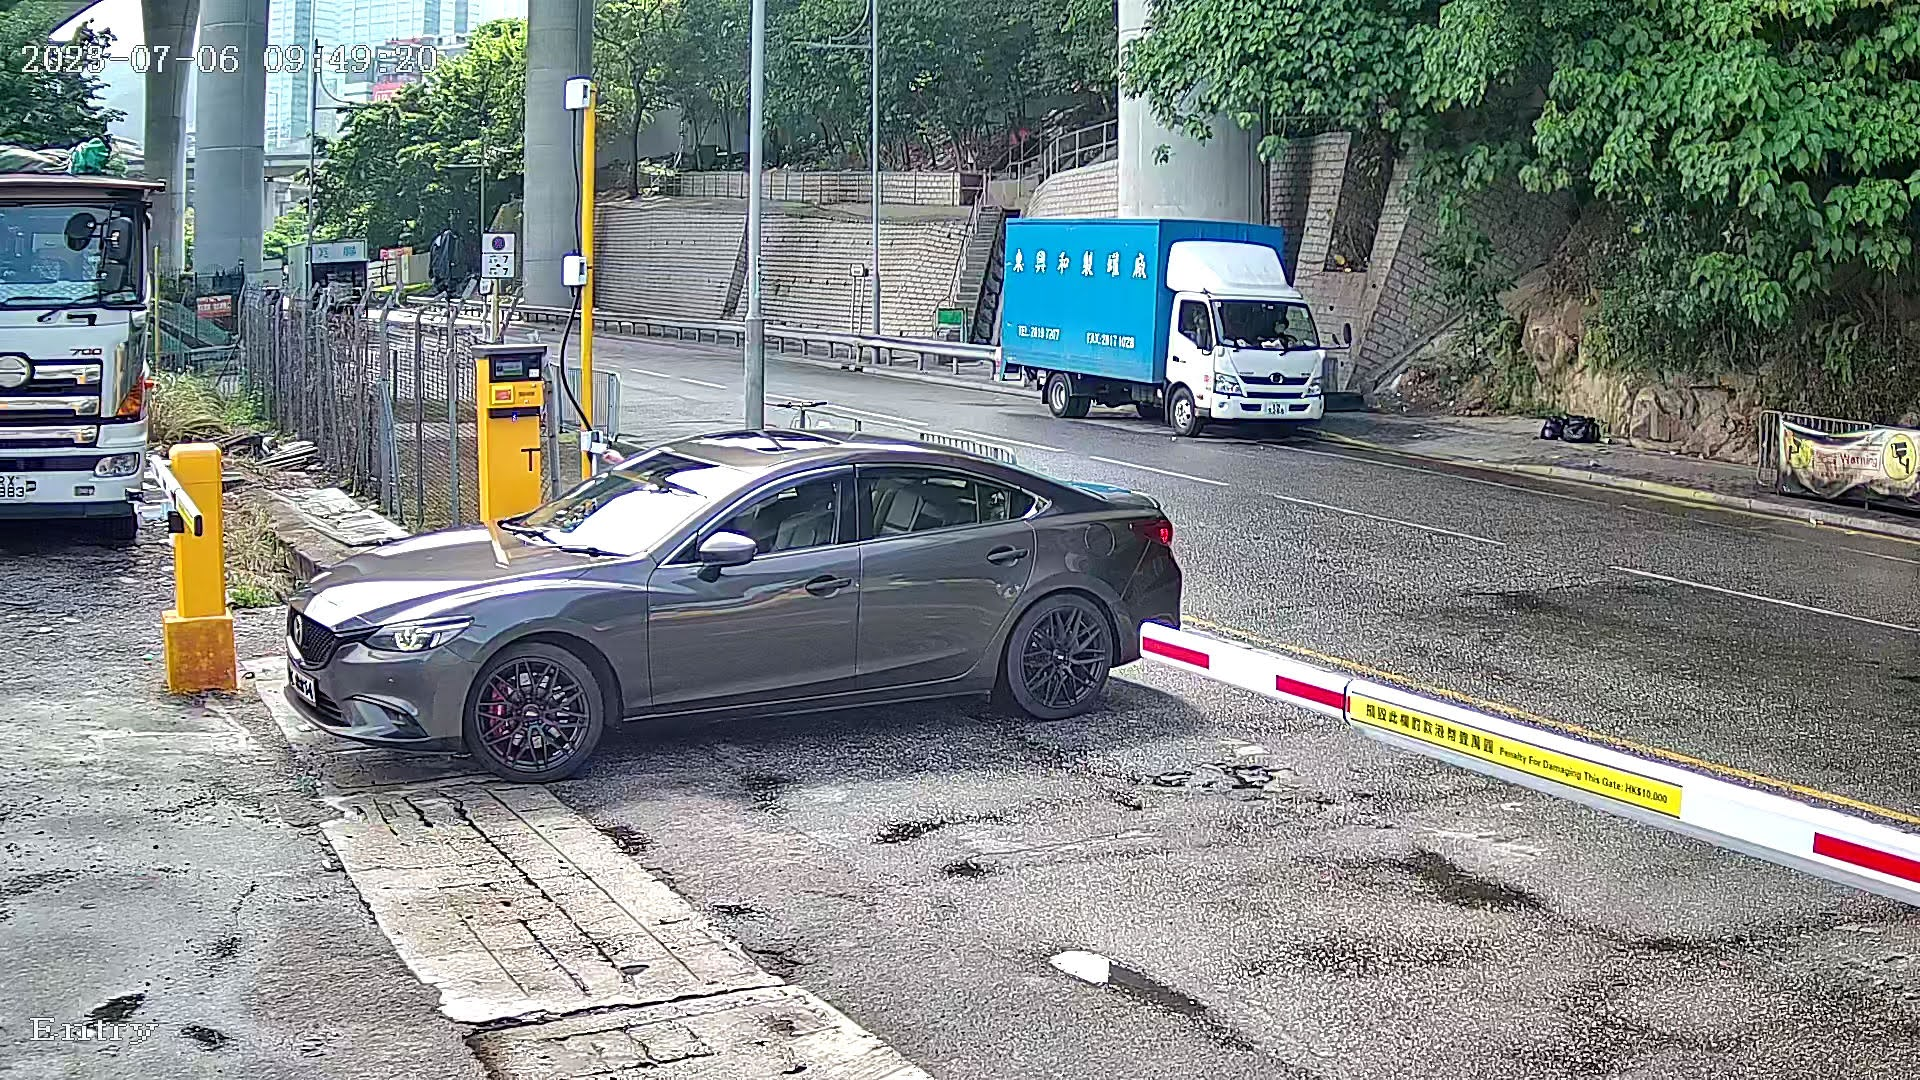privatecar: (261, 377, 1209, 812)
